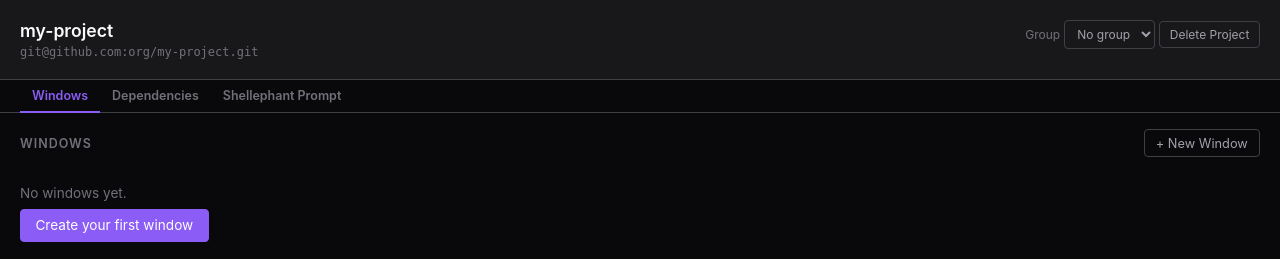
Test: ProjectView › tabs › clicking Dependencies tab shows dep section
This screenshot has width=1280, height=259.
Click the button "Dependencies".
click(155, 96)  # box x1=100 y1=80 x2=211 y2=113
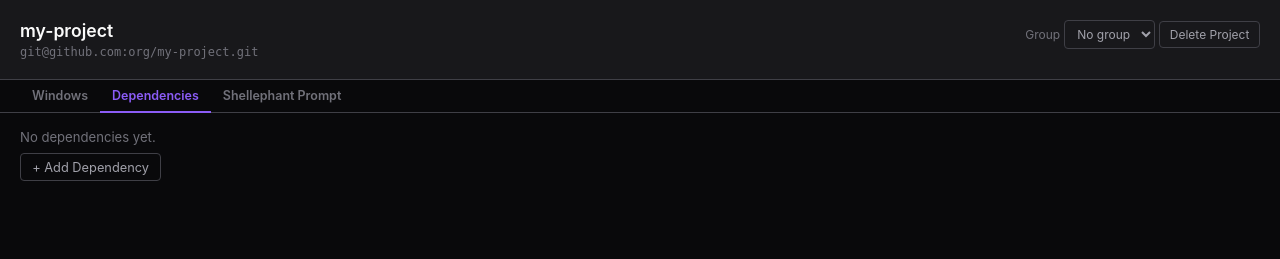
Check: the button "+ Add Dependency" is shown, box x1=20 y1=153 x2=161 y2=181
